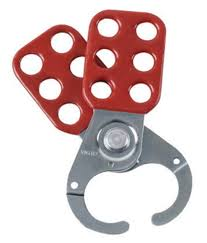hasp: (10, 10, 194, 235)
